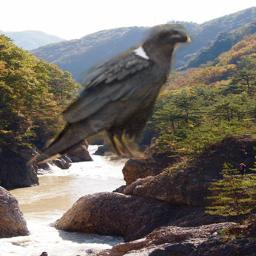Crow: (26, 24, 194, 172)
